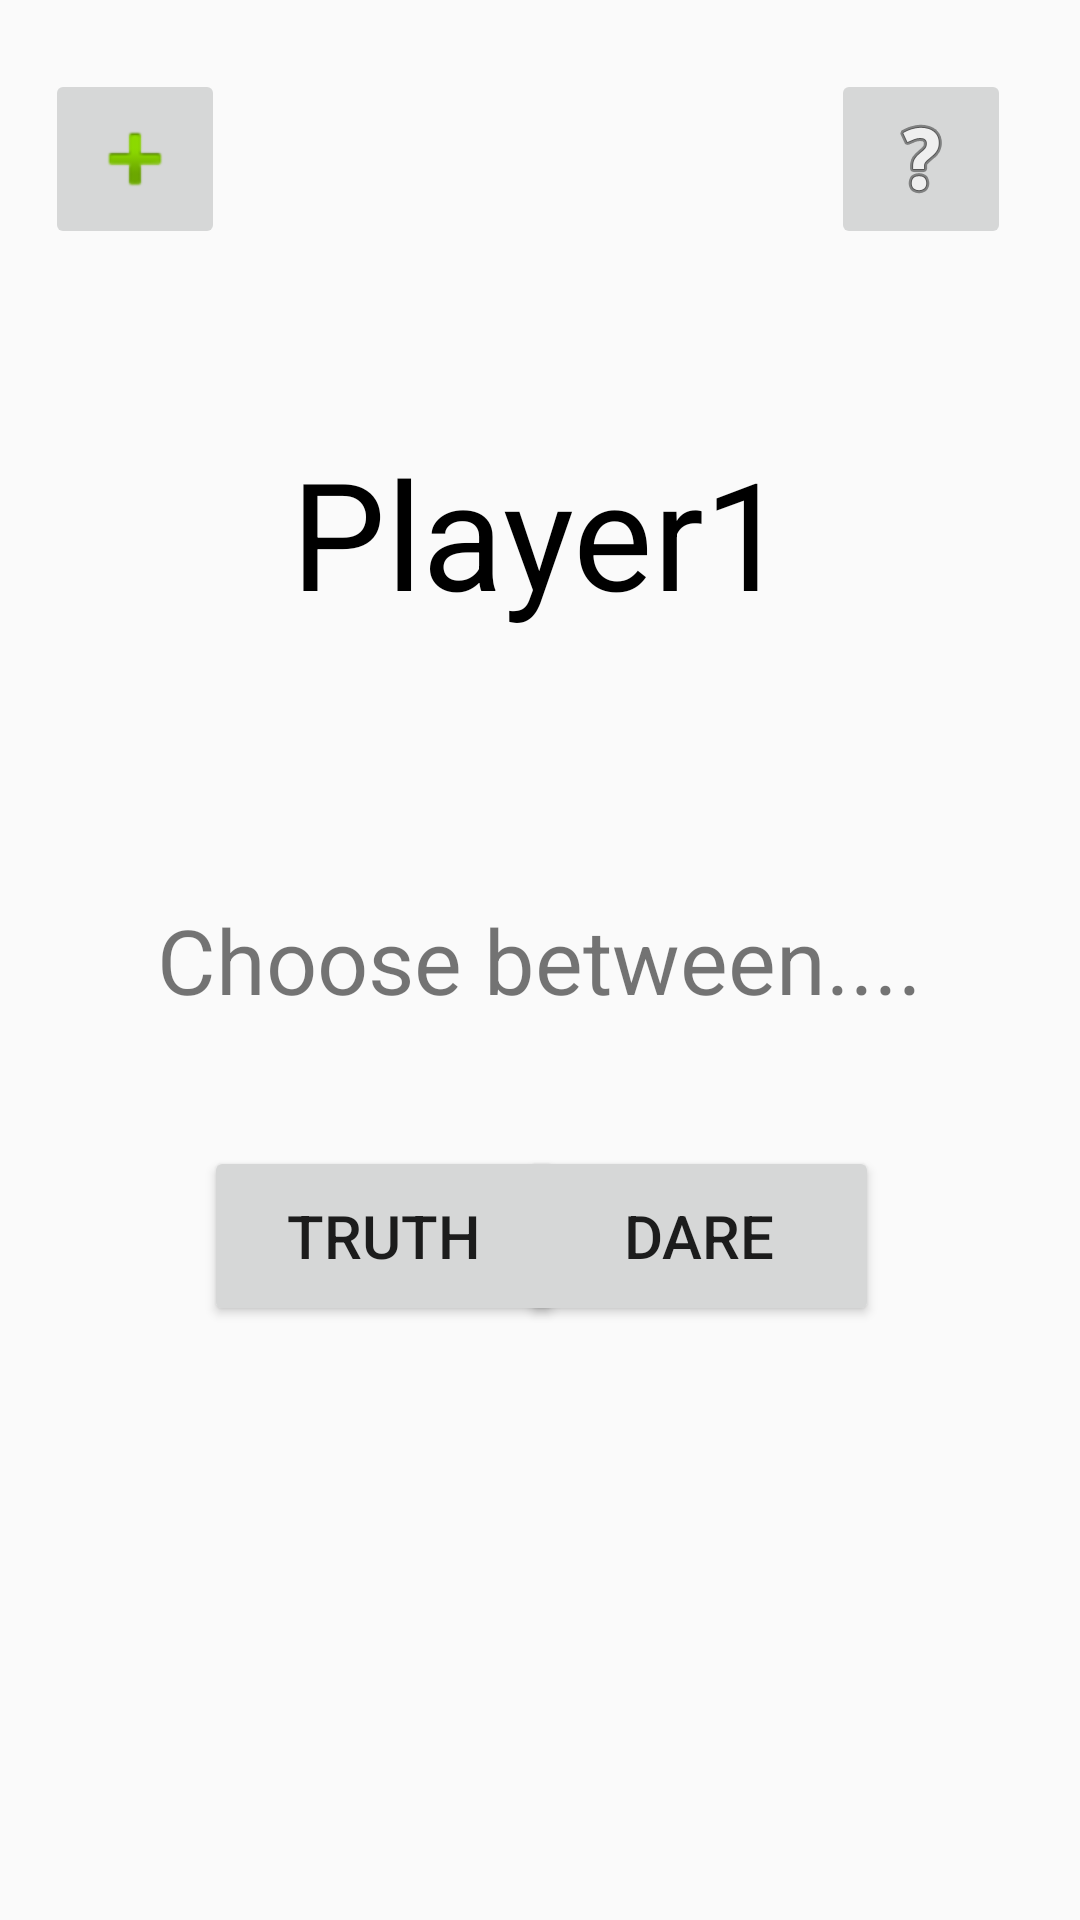

Screen size 1080w x 1920h. Icon name, then its center in pixels as (x=x, y=y):
add: (x=135, y=159)
help: (x=921, y=159)
